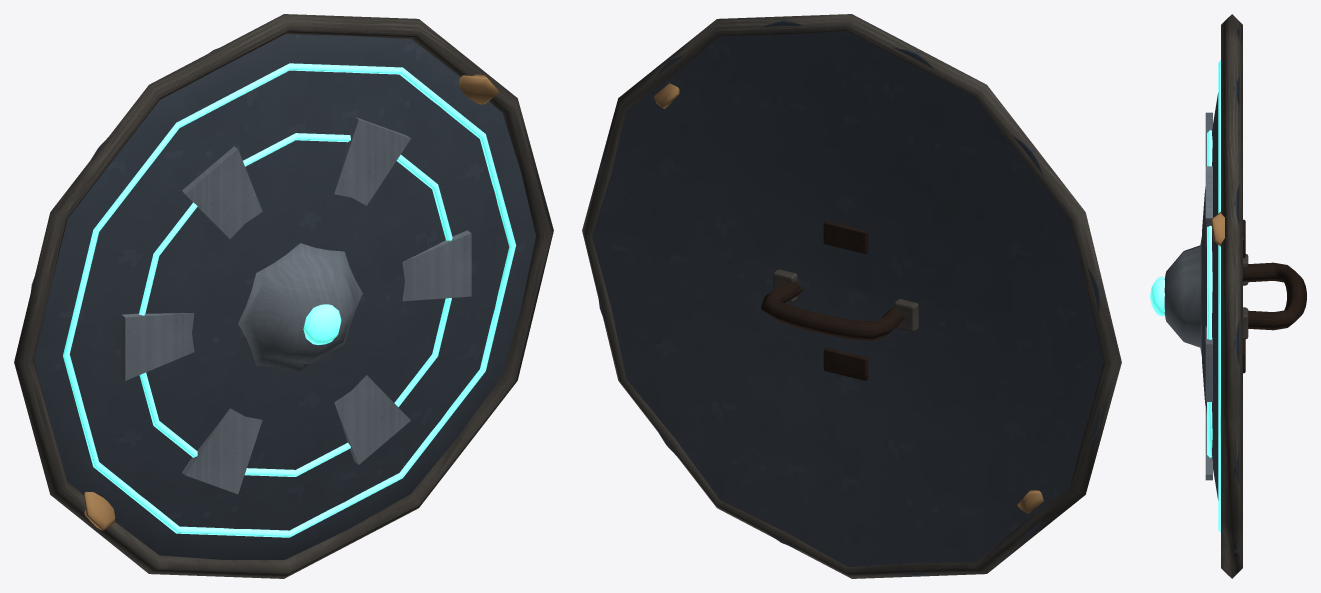
The model's file is kinetic-disc.lod2.glb.
The picture shows the model from 3 angles, left to right: view 1: azimuth 30°, elevation 25°; view 2: azimuth 150°, elevation 25°; view 3: azimuth 270°, elevation 25°; orthographic projection. The views are drawn at different scales.
Parts seen in each view (by area): view 1: ceramic / ceramic composite panel, alloy / machined anodized alloy, iron / hammer-scaled wrought iron, energy / emissive field channel, peened pin; view 2: ceramic / ceramic composite panel, iron / hammer-scaled wrought iron, leather / oiled leather wrap, peened pin; view 3: iron / hammer-scaled wrought iron, alloy / machined anodized alloy, ceramic / ceramic composite panel, energy / emissive field channel, leather / oiled leather wrap, peened pin.
Boxes of the visible parts, x1,y1,x2,y2 form: ceramic / ceramic composite panel: (31,34,535,559); alloy / machined anodized alloy: (121,117,471,494); iron / hammer-scaled wrought iron: (14,14,553,578); energy / emissive field channel: (63,63,516,537); peened pin: (84,74,498,530); ceramic / ceramic composite panel: (592,19,1103,575); iron / hammer-scaled wrought iron: (582,14,1121,578); leather / oiled leather wrap: (760,221,904,380); peened pin: (653,83,1043,513); iron / hammer-scaled wrought iron: (1221,14,1248,578); alloy / machined anodized alloy: (1164,112,1212,480); ceramic / ceramic composite panel: (1201,28,1239,554); energy / emissive field channel: (1150,60,1220,532); leather / oiled leather wrap: (1243,219,1306,373); peened pin: (1211,212,1243,246).
Bounding box in the file's own units: 0.624 × 0.624 × 0.1727.
6 materials, 4 textured.
